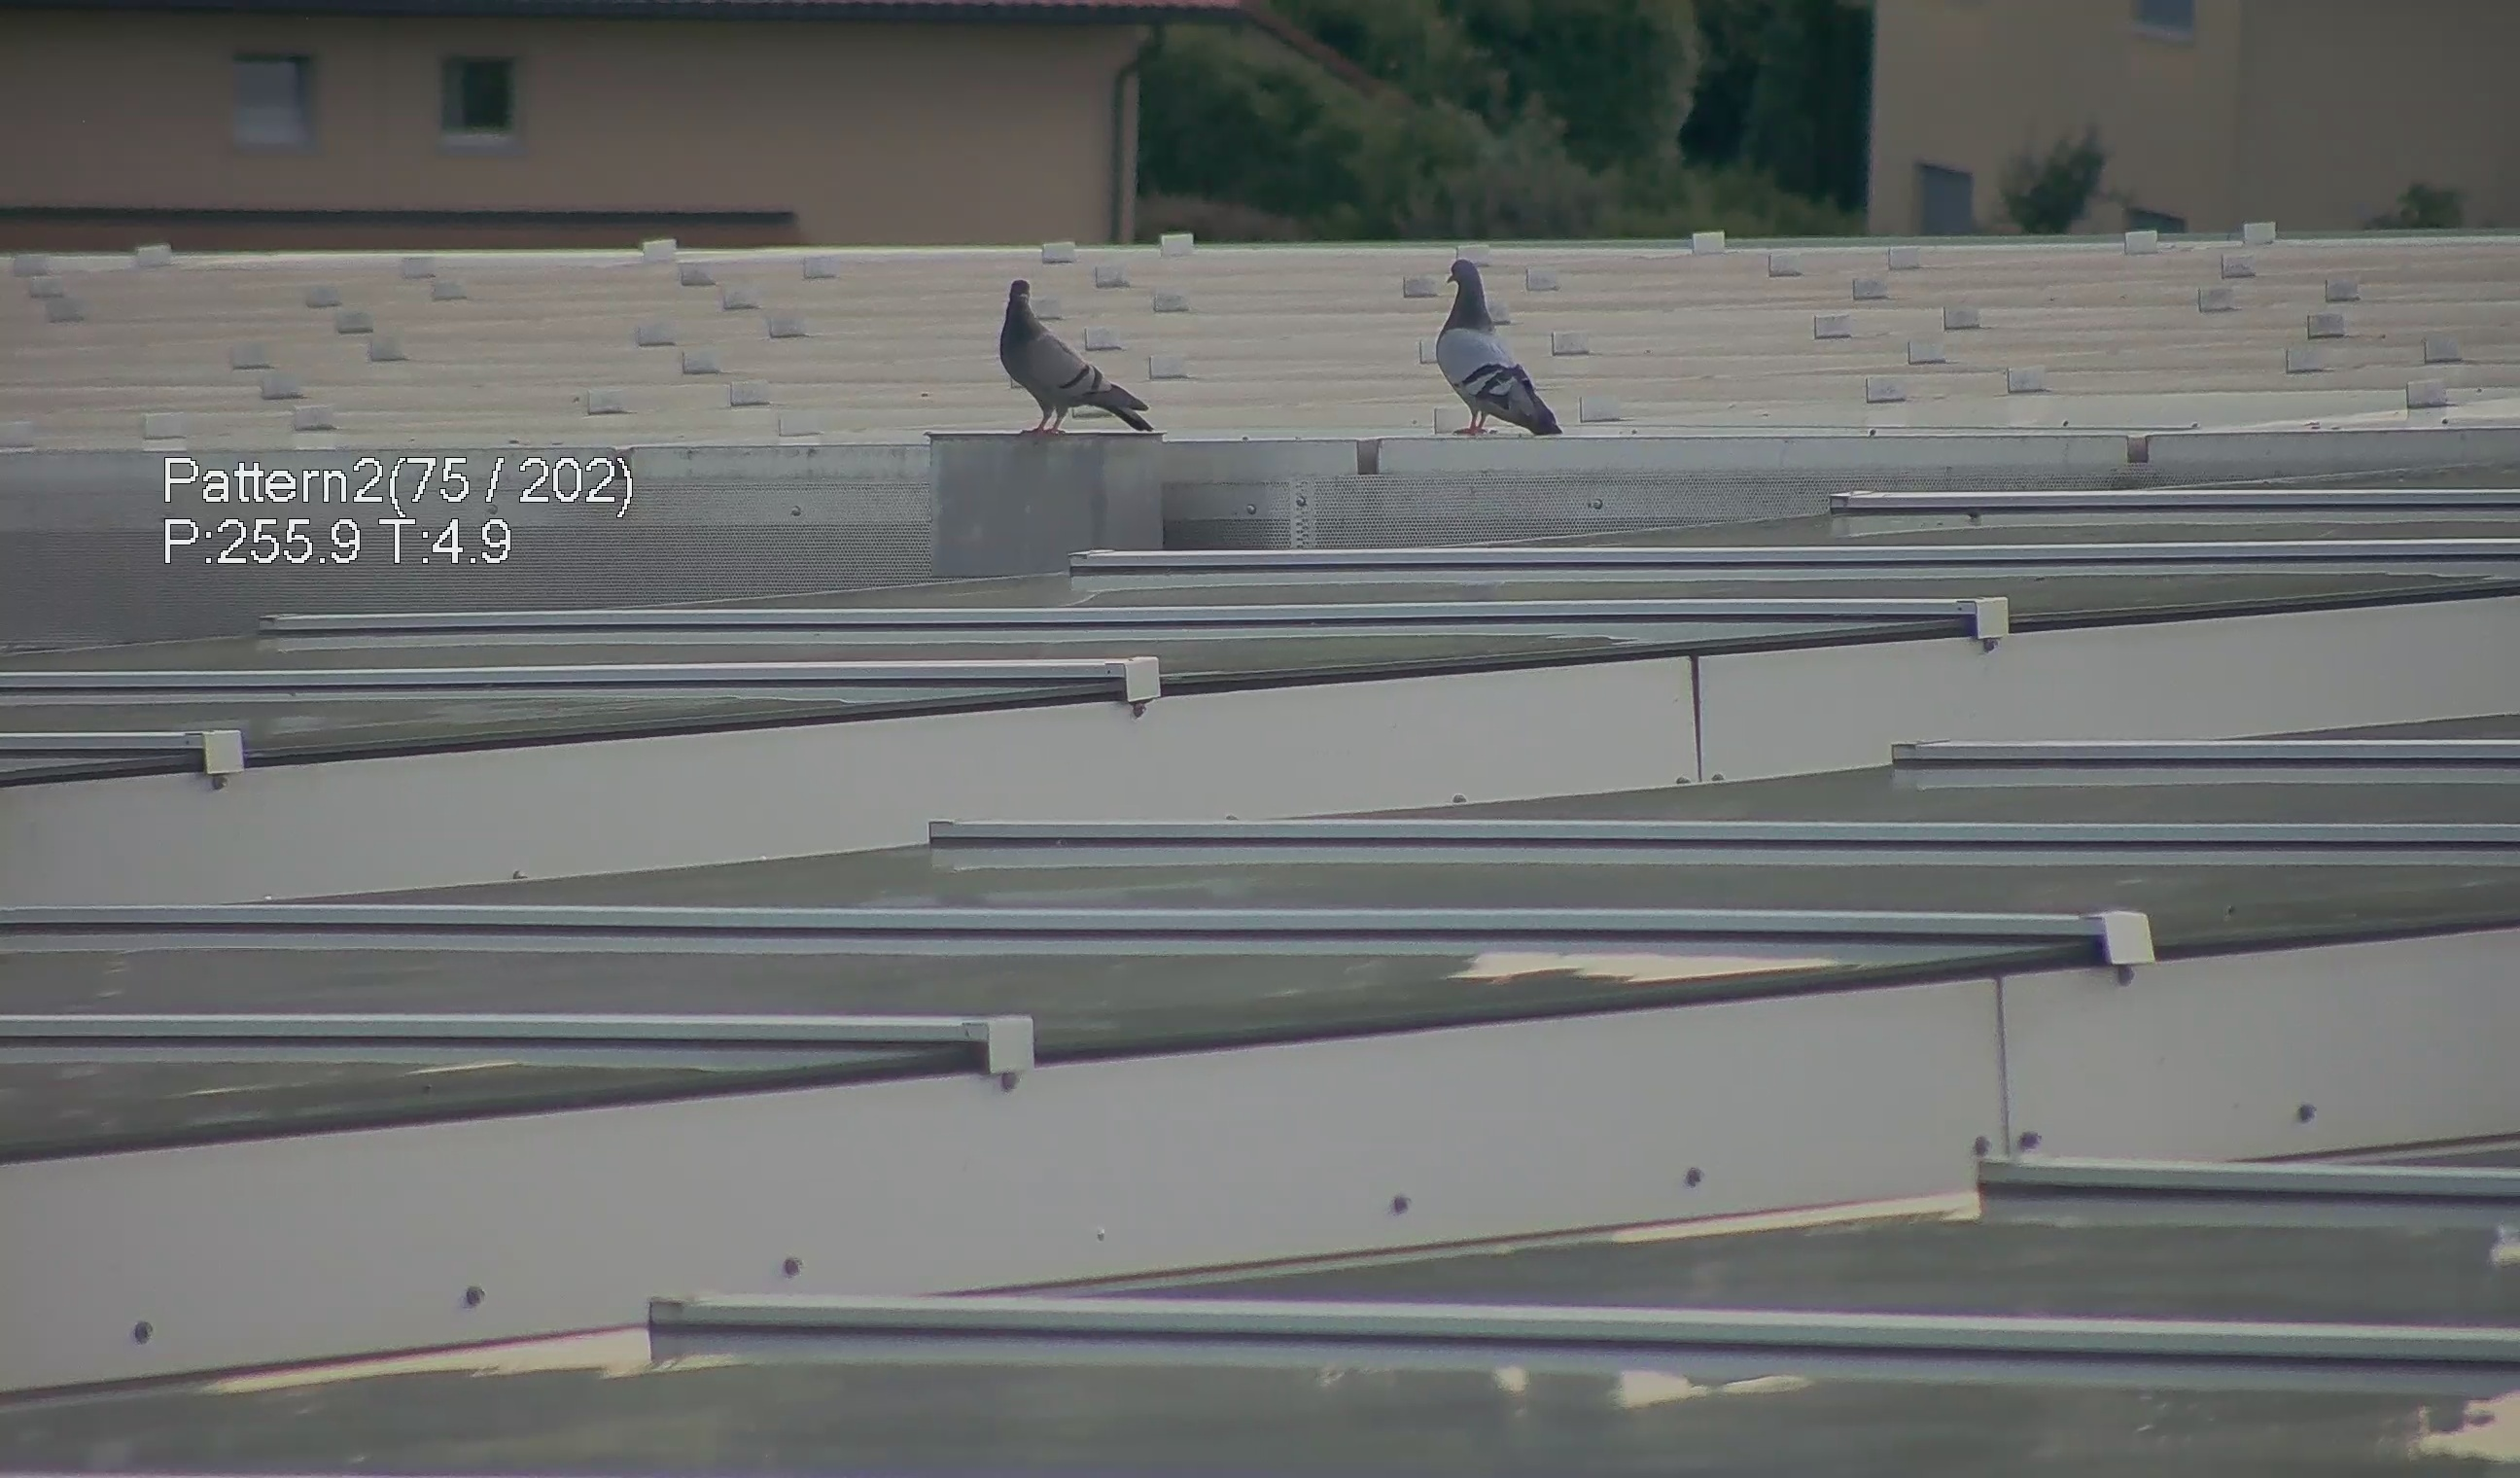Pigeon: (1409, 243, 1569, 447), (978, 264, 1150, 443)
